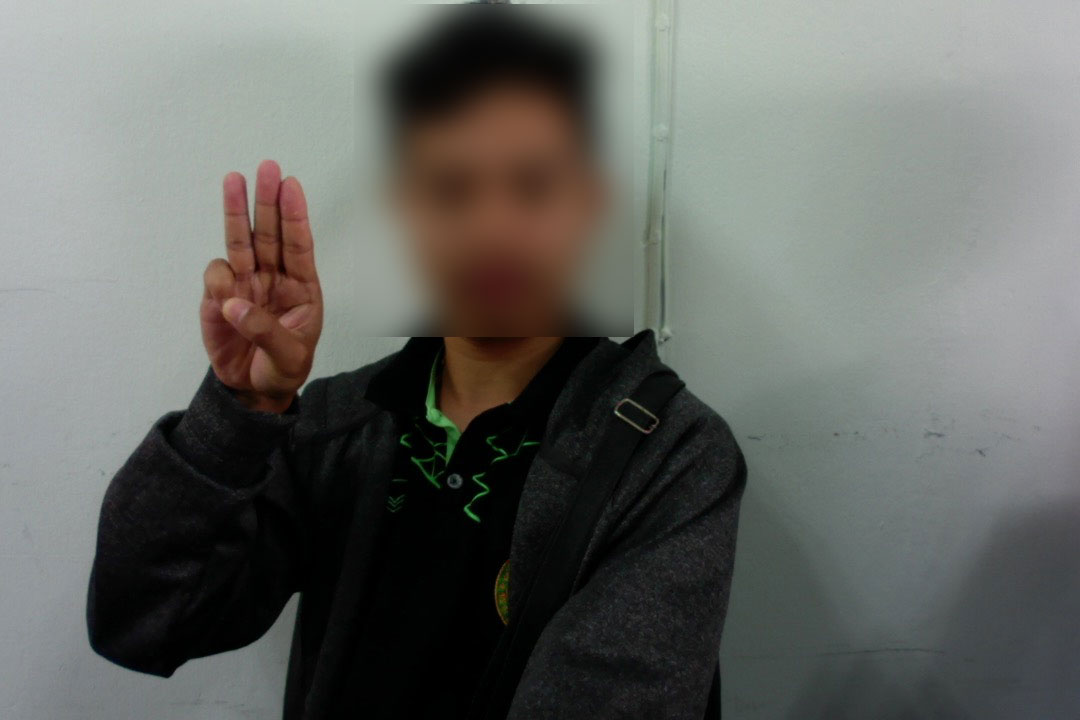wor: (180, 152, 333, 388)
